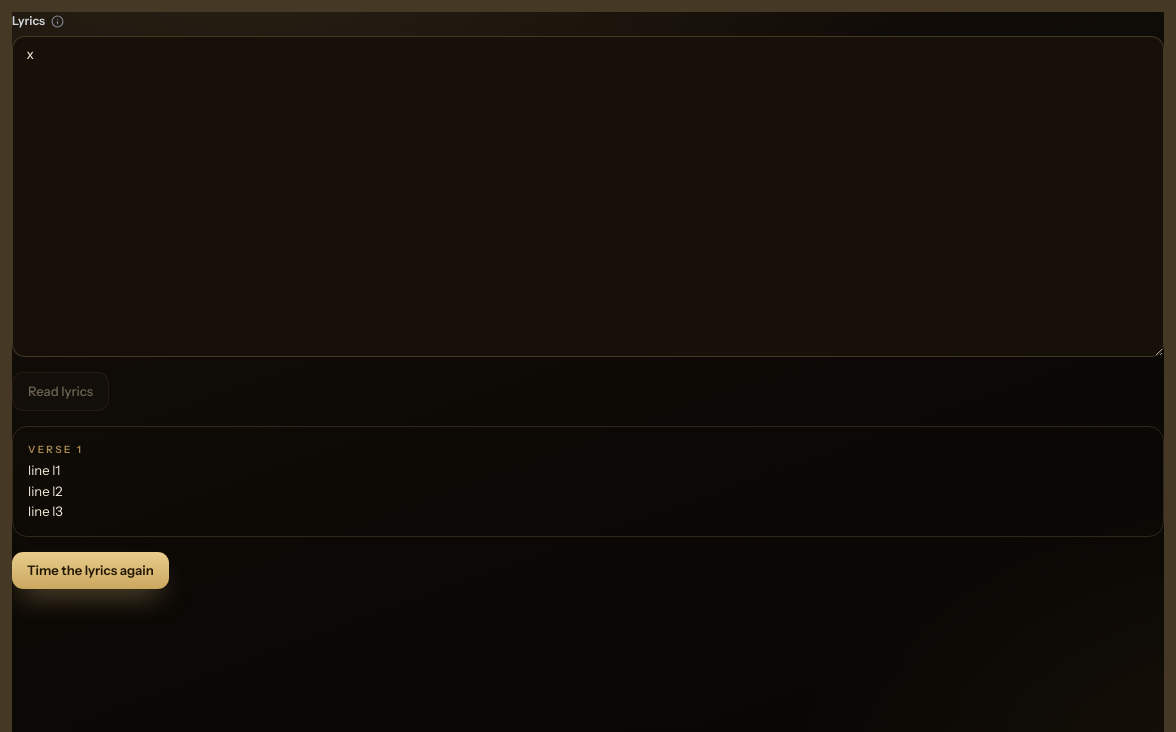
Test: lyric video help tips › Lyrics step explains sections and crowd replies
Click the button named "About sections and crowd replies" at (58,21), box [51, 14, 65, 28]
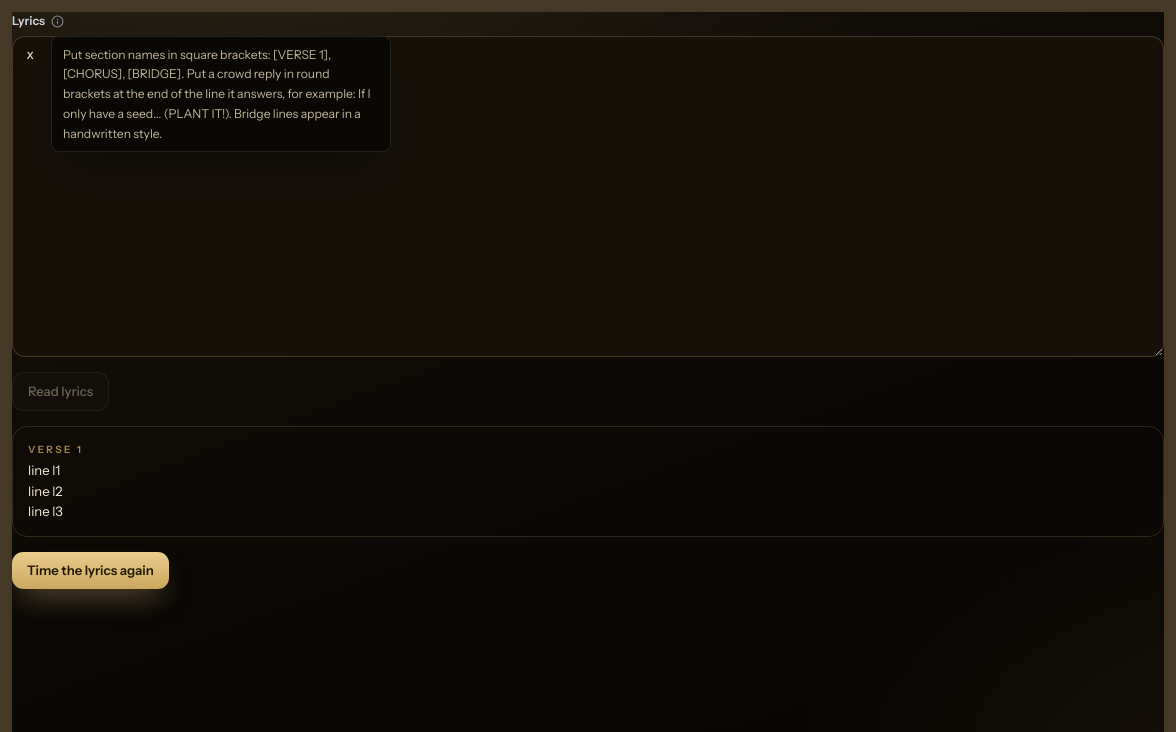
Expected: the tooltip shows "Put section names in square brackets: [VERSE 1], [CHORUS], [BRIDGE]. Put a crowd reply in round brackets at the end of the line it answers, for example: If I on", [63, 47, 371, 141]
